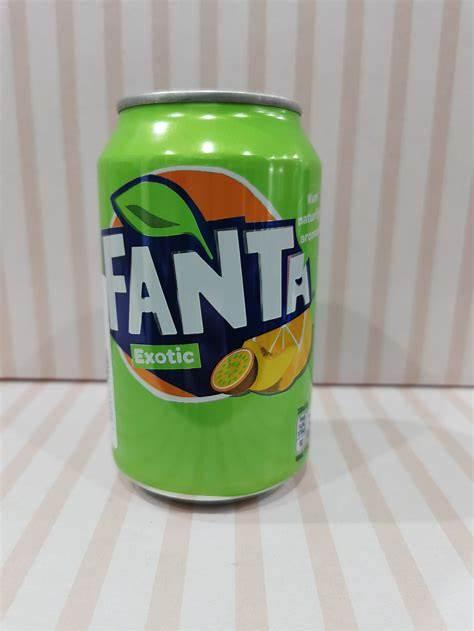metal: (98, 91, 321, 503)
